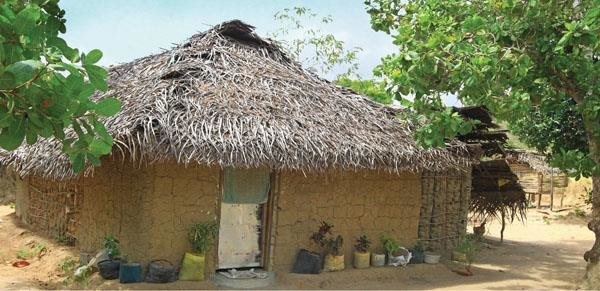Mud House: (22, 39, 436, 268)
